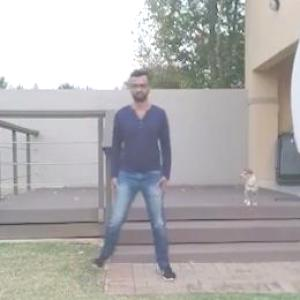follow: (109, 65, 174, 282)
